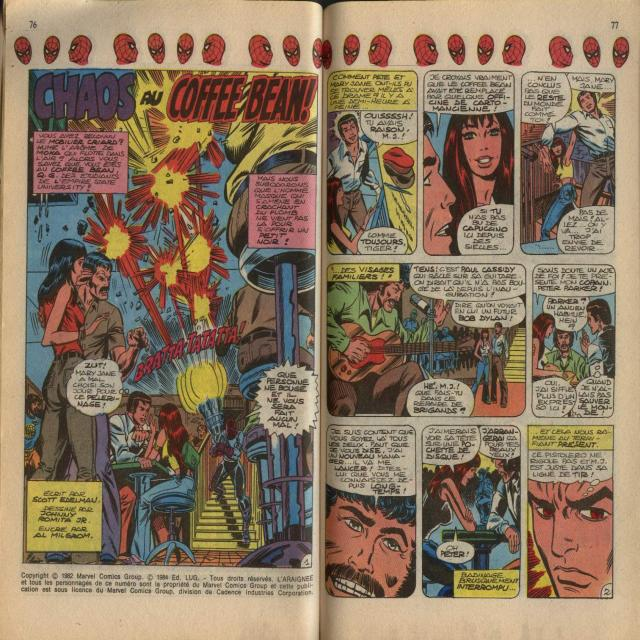comic_panel: (20, 65, 318, 570), (325, 259, 528, 419), (519, 69, 618, 258), (419, 422, 522, 601), (325, 70, 420, 256), (423, 70, 517, 256), (324, 424, 419, 602), (525, 424, 615, 601), (528, 263, 619, 421)
